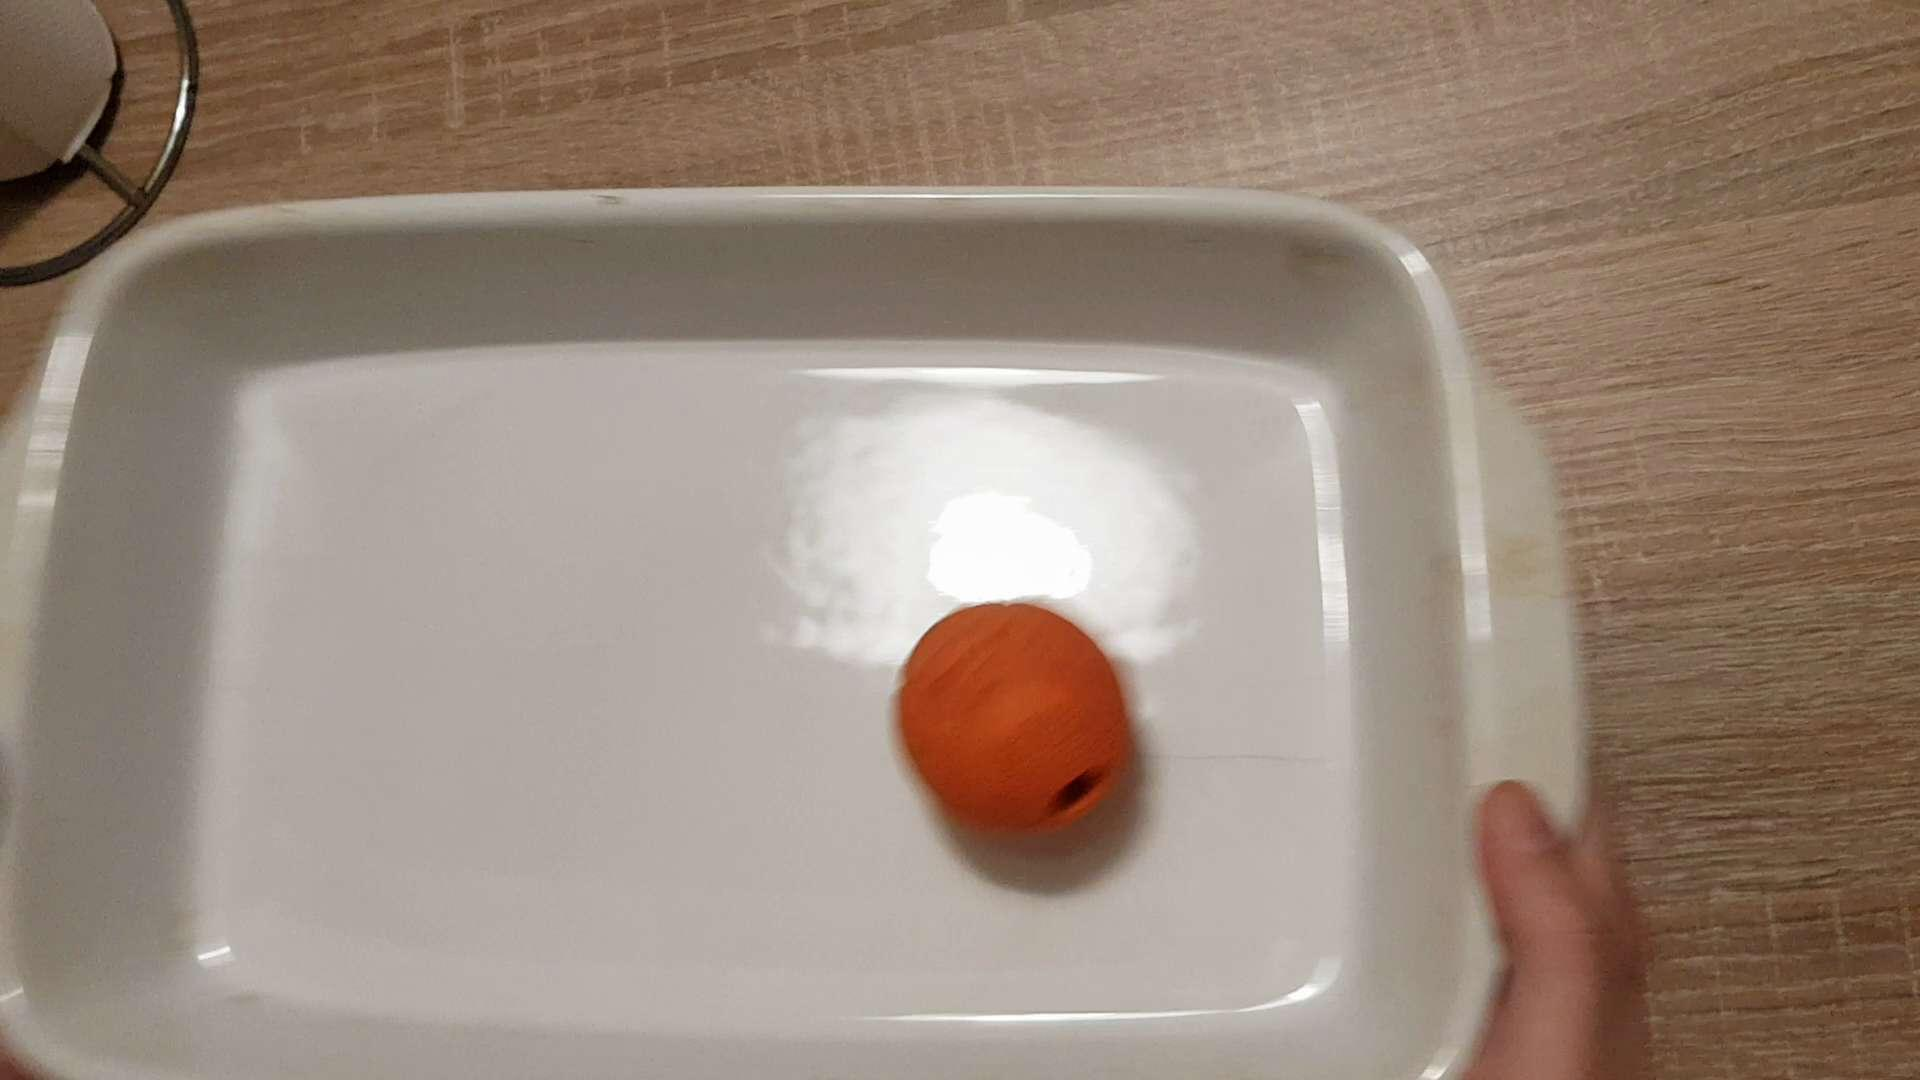sphere: (884, 585, 1149, 868)
